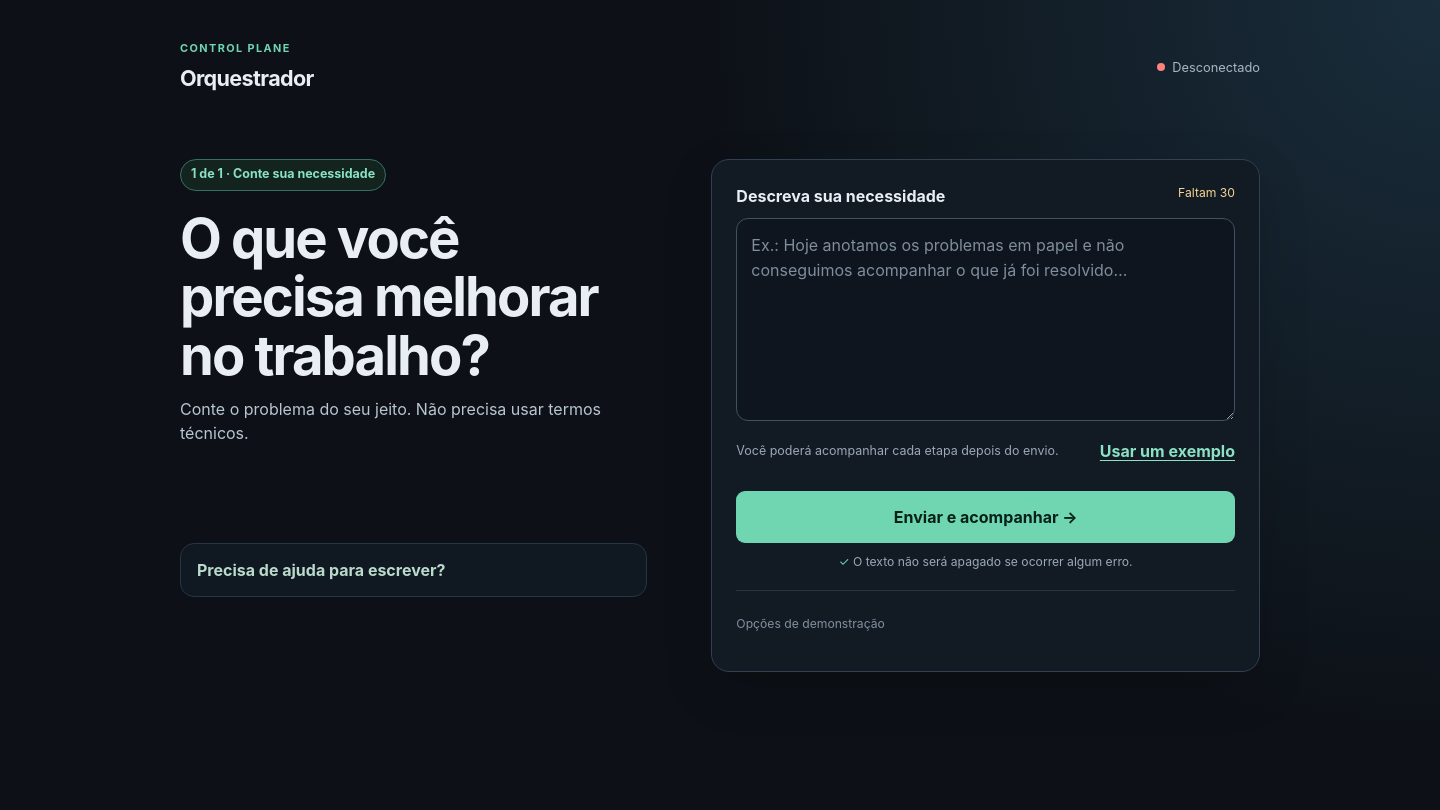
Test: painel responsivo e auditoria › valida, preserva e foca um briefing curto
The width and height of the screenshot is (1440, 810).
Replace the text in the text box labelled "Descreva sua necessidade" with "curto" at x=986, y=320, box [736, 218, 1235, 421]
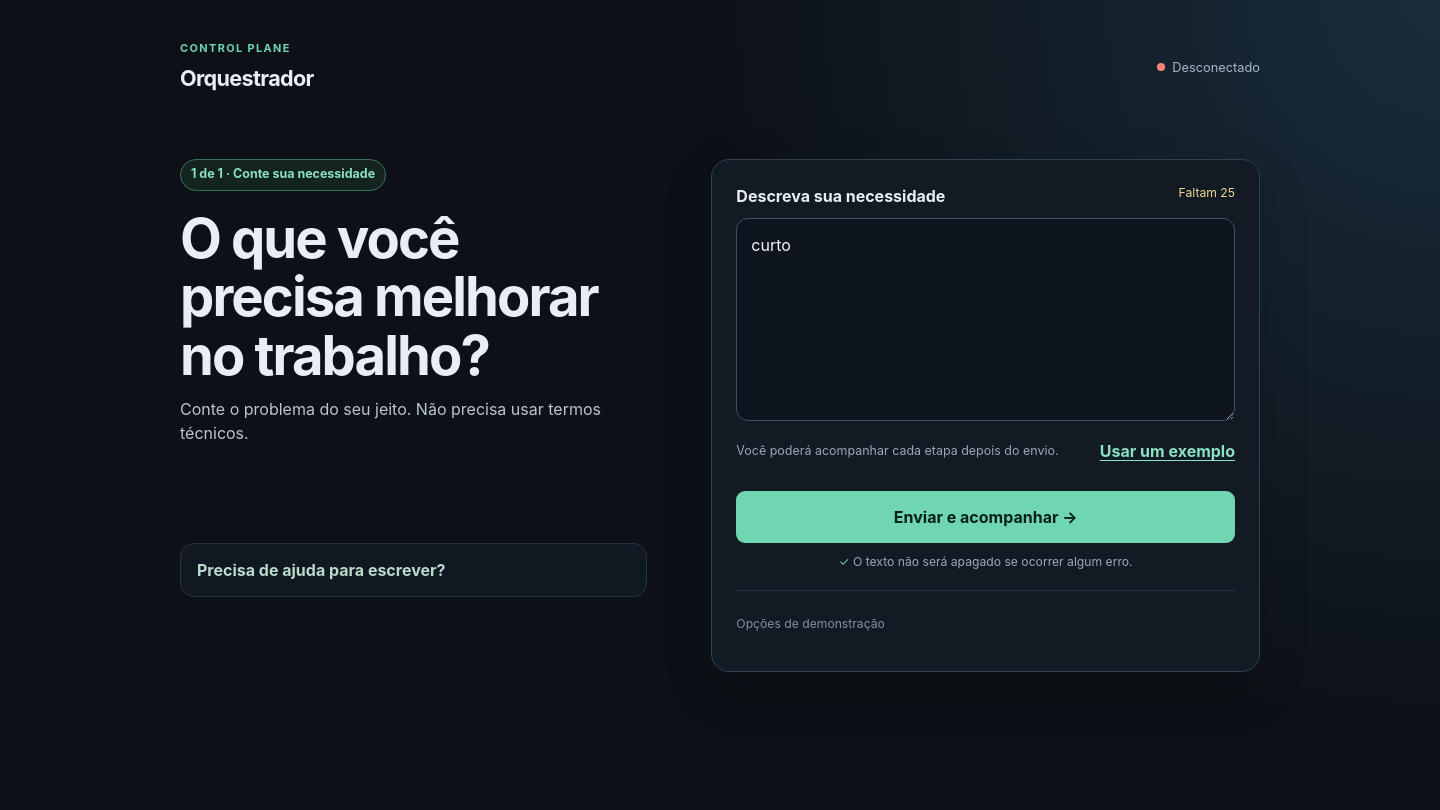
Click the button "Enviar e acompanhar →" at x=986, y=517, box [736, 491, 1235, 543]
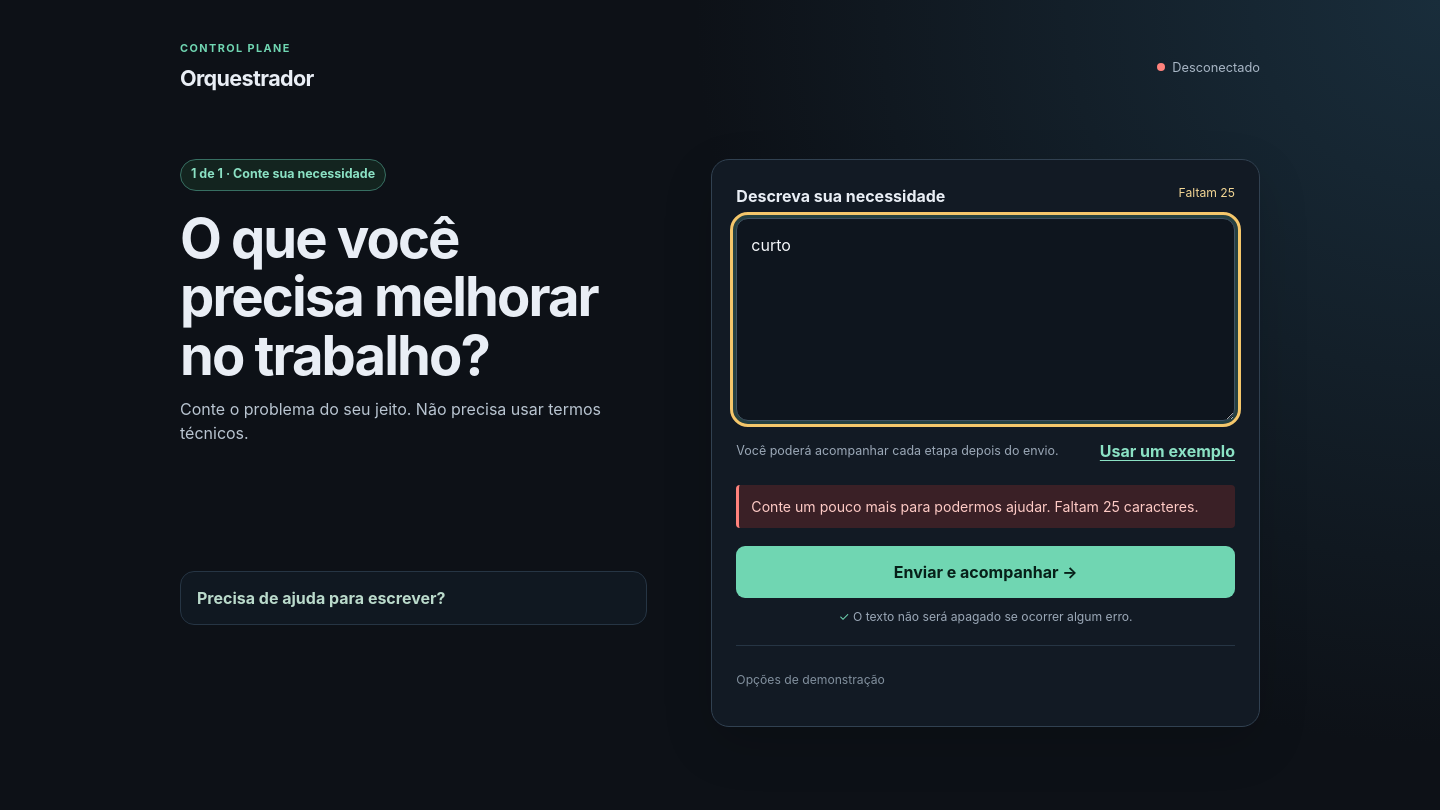
Expected: the message shows "Conte um pouco mais", [751, 498, 1199, 515]
